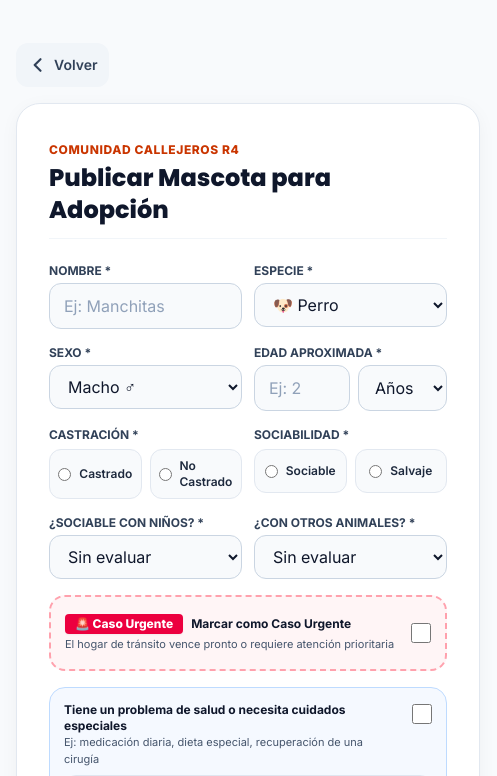
Test: PublishPetView y PetForm › habilita cuidado especial al marcar la casilla, limpia al desmarcar y actualiza contadores
Click the checkbox labelled "Tiene un problema de salud o necesita cuidados especiales" at (422, 714), box [412,704,432,724]
(page scrolled)
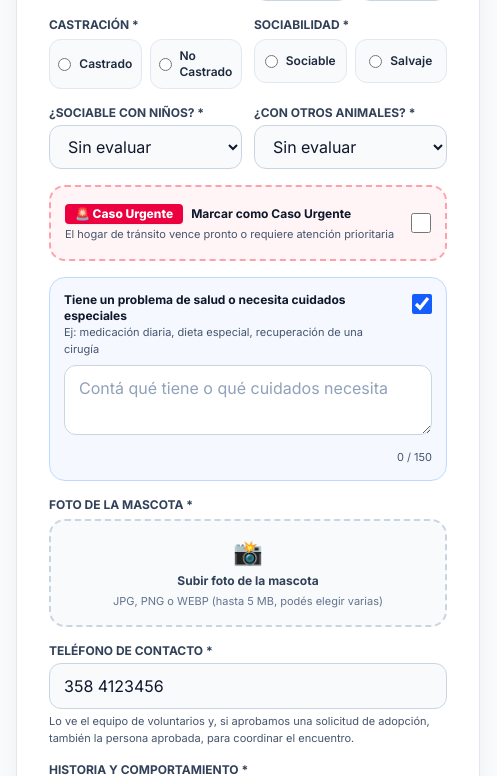
Check: the text box named "Contá qué problema de salud tiene o qué cuidados necesita" is enabled
Type "Medicación diaria" into the text box named "Contá qué problema de salud tiene o qué cuidados necesita" at (248, 400), box [64,365,432,435]
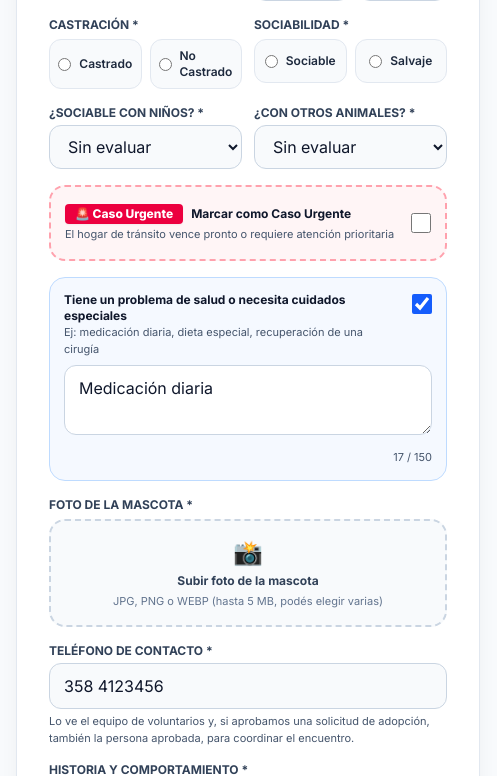
Check: the text "17 / 150" is shown, box [393,449,432,466]
Click the checkbox labelled "Tiene un problema de salud o necesita cuidados especiales" at (422, 304), box [412,294,432,314]
(page scrolled)
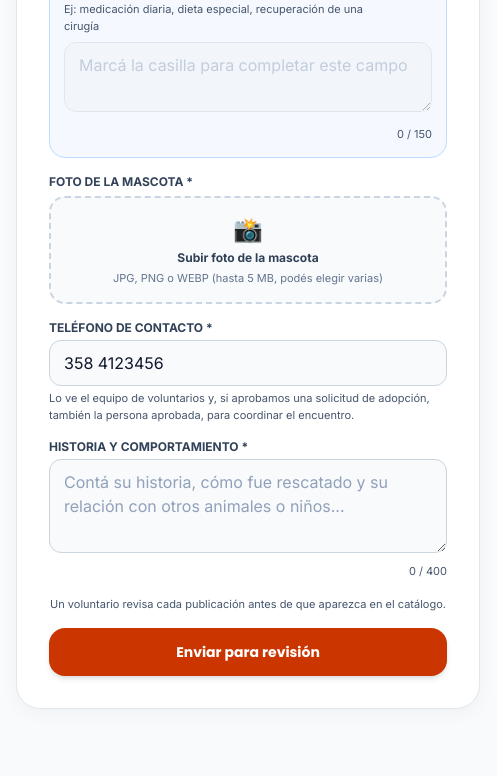
Check: the text box named "Contá qué problema de salud tiene o qué cuidados necesita" is disabled, box [64,42,432,112]
Check: the text box named "Contá qué problema de salud tiene o qué cuidados necesita" is empty, box [64,42,432,112]
Check: the text "0 / 150" is shown, box [397,126,432,142]
Replace the text in the text box labelled "Historia y Comportamiento *" with "Muy cariñoso" at (248, 506), box [49,459,447,553]
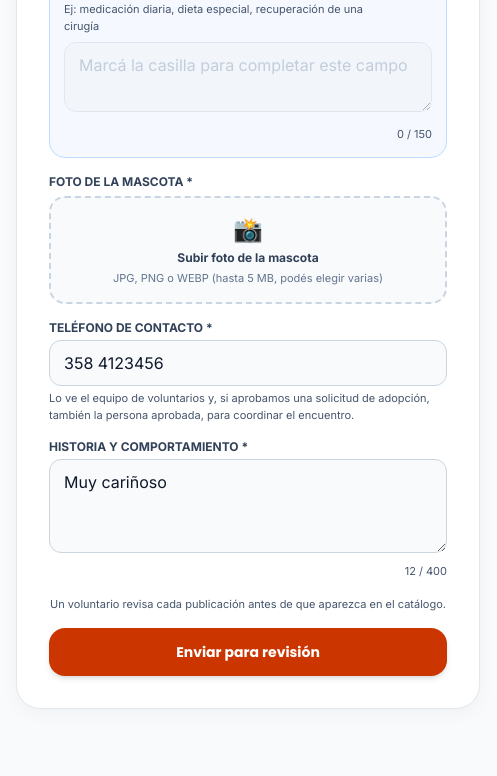
Check: the text "12 / 400" is shown, box [405,563,447,580]
